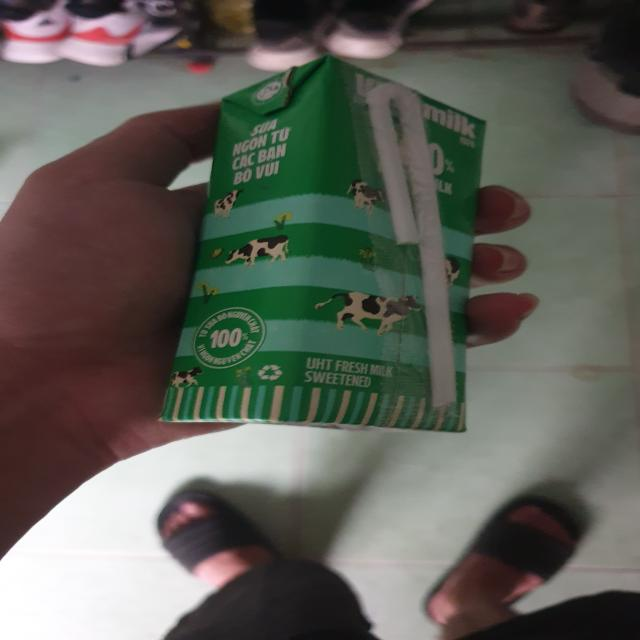Vina: (151, 60, 484, 434)
